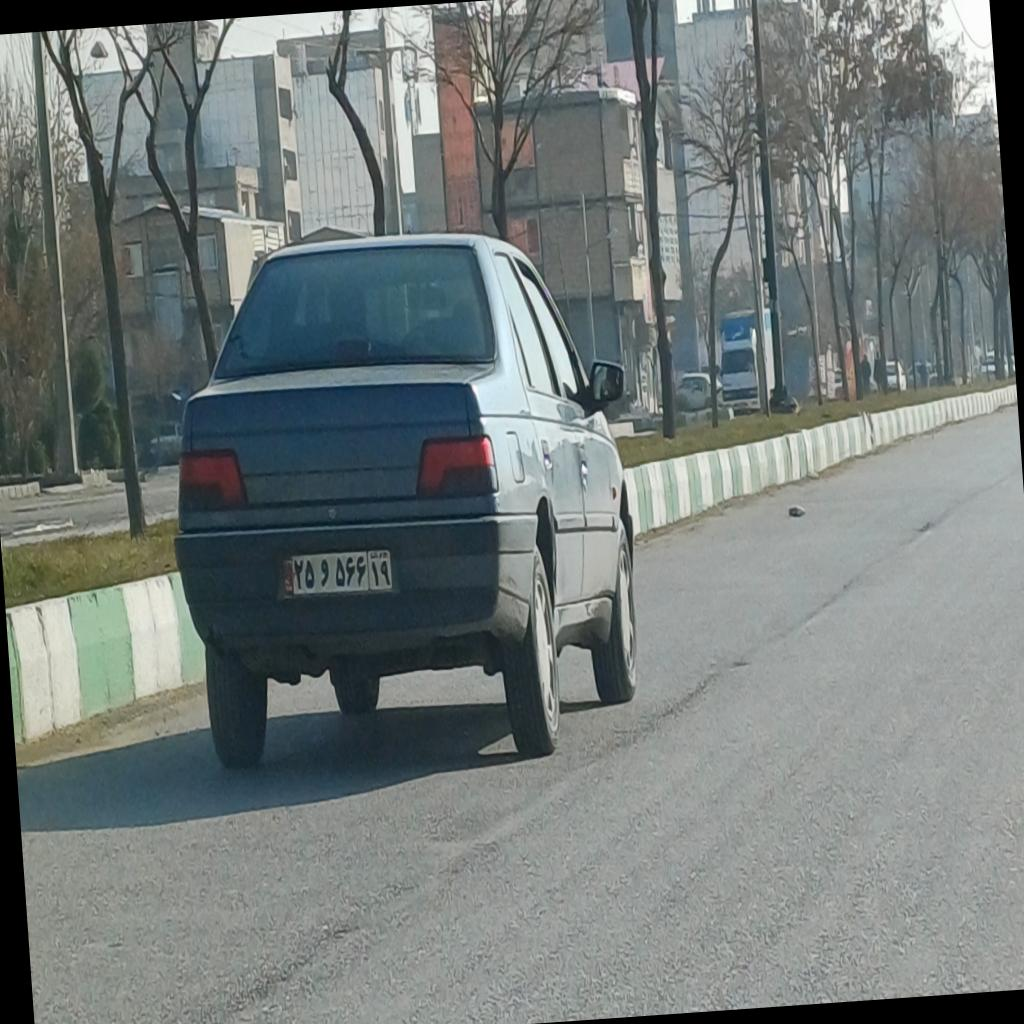Plates: (280, 548, 394, 598)
